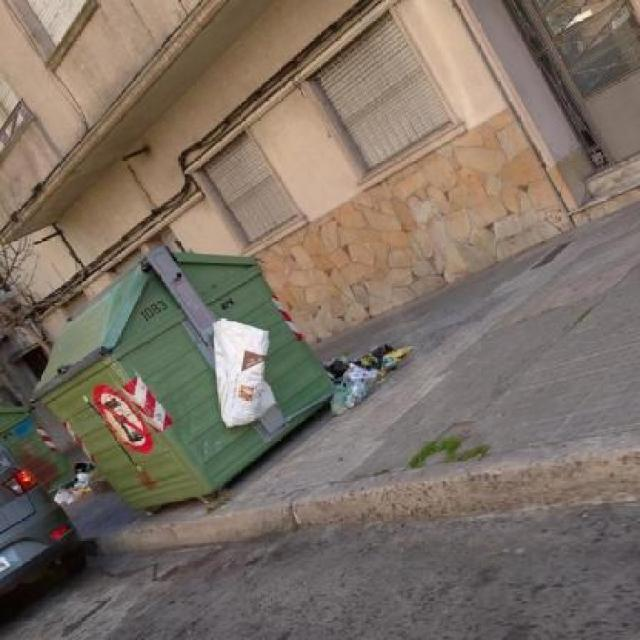garbage: (208, 306, 285, 444), (314, 346, 398, 407), (60, 462, 94, 509)
